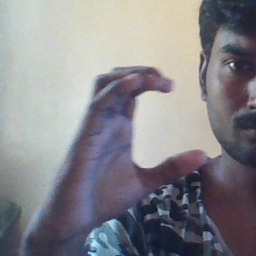C: (88, 57, 212, 184)
